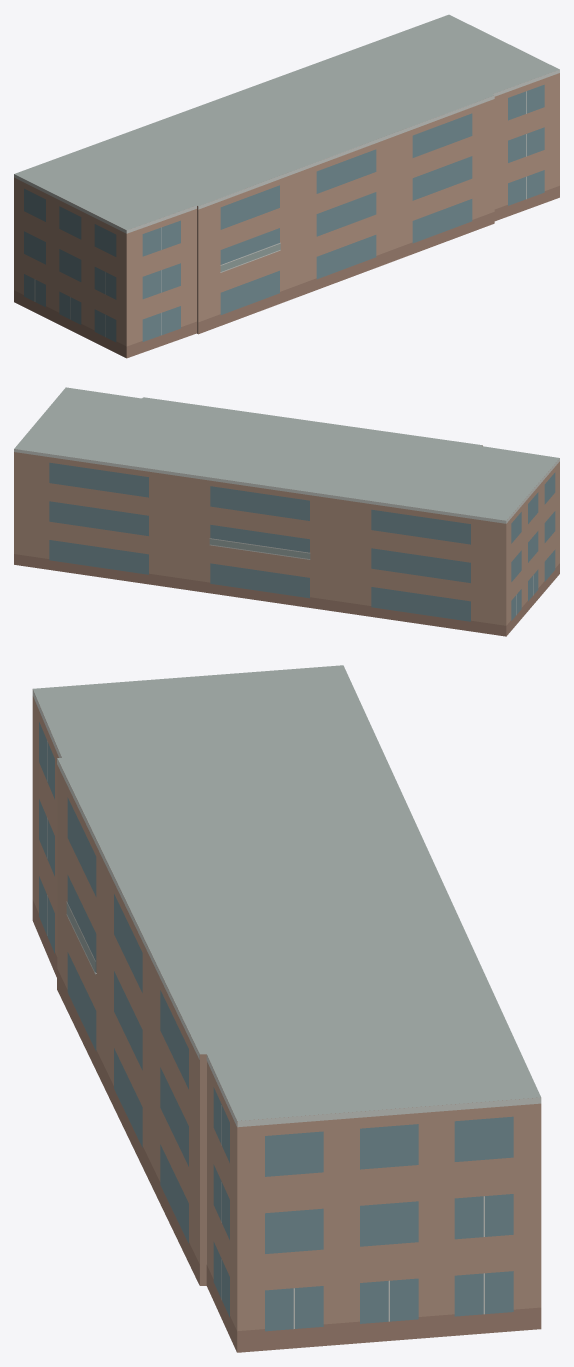
The model's file is survey-upis-32899897.glb.
3 views of the same model, one above another, from view 1: azimuth 30°, elevation 25°; view 2: azimuth 150°, elevation 25°; view 3: azimuth 270°, elevation 25° (orthographic). The views are drawn at different scales.
Parts seen in each view (by area): view 1: survey-upis-32899897.tmp; view 2: survey-upis-32899897.tmp; view 3: survey-upis-32899897.tmp.
Part boxes in pixels (<box>): survey-upis-32899897.tmp: <box>14,14,559,358</box>; survey-upis-32899897.tmp: <box>14,387,559,636</box>; survey-upis-32899897.tmp: <box>32,665,541,1352</box>.
Bounding box in the file's own units: 38.63 × 9.15 × 18.22.
